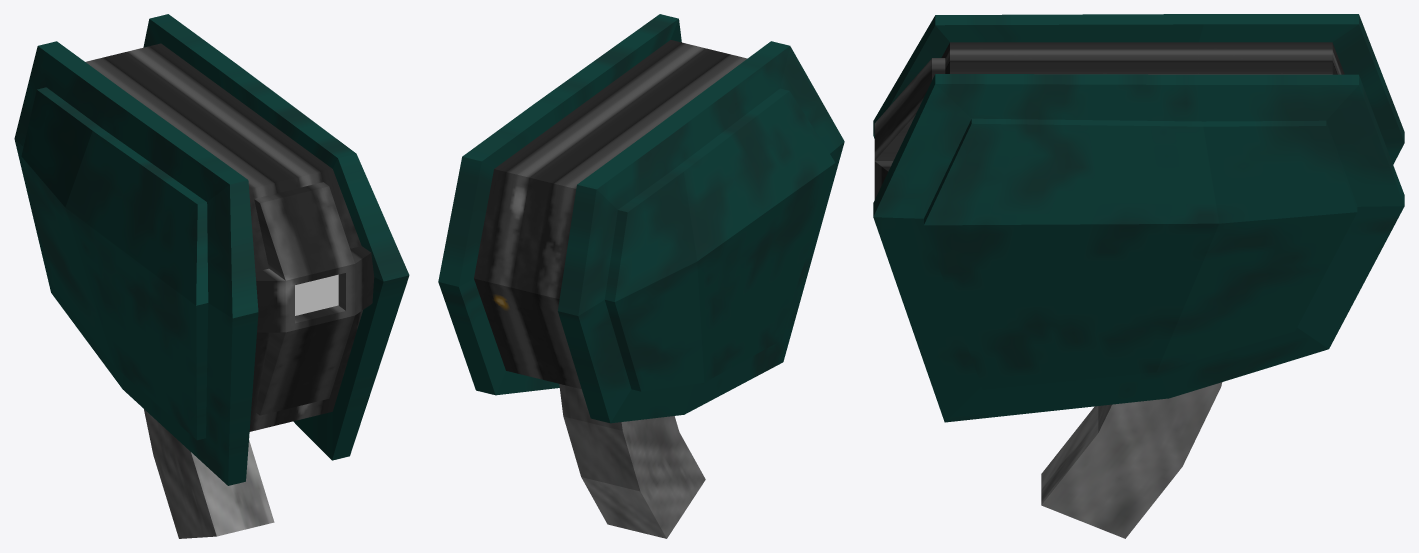
File: Robot 7 head.fbx
3 views of the same model, side by side, from view 1: azimuth 30°, elevation 25°; view 2: azimuth 150°, elevation 25°; view 3: azimuth 270°, elevation 25° (orthographic). The views are drawn at different scales.
Parts seen in each view (by area): view 1: Cube.005, Cube.014; view 2: Cube.005, Cube.014; view 3: Cube.005, Cube.014.
Part boxes in pixels (x1,y1,x2,y2): Cube.005: (14, 14, 409, 485); Cube.014: (144, 409, 274, 538); Cube.005: (438, 14, 844, 423); Cube.014: (559, 384, 705, 538); Cube.005: (873, 14, 1404, 422); Cube.014: (1041, 382, 1222, 538).
Size of the model in its own units: 104 by 207 by 211.
